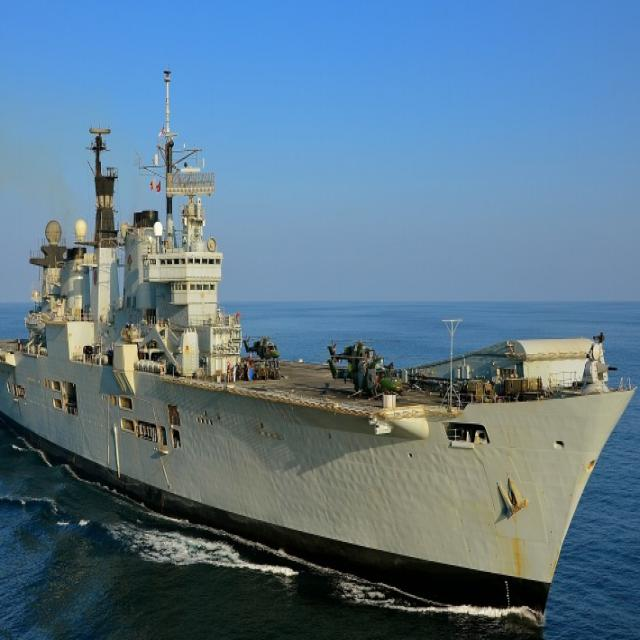Portanaves: (1, 59, 640, 640)
